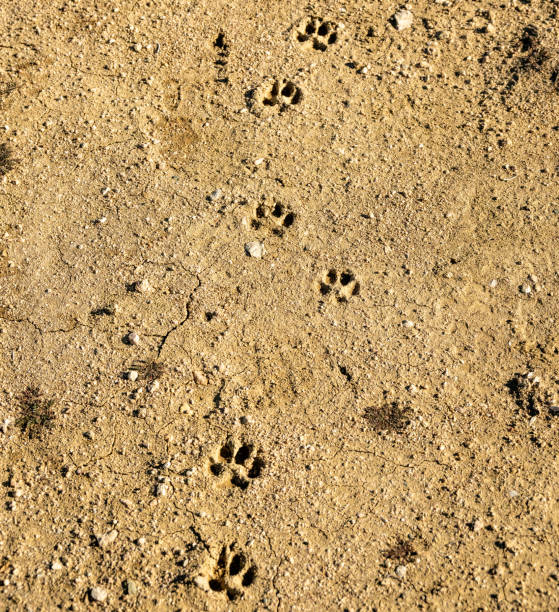animal_footprint: (197, 543, 256, 600), (209, 439, 265, 489), (250, 201, 295, 236), (295, 17, 339, 51), (256, 79, 302, 110), (319, 268, 359, 301)
